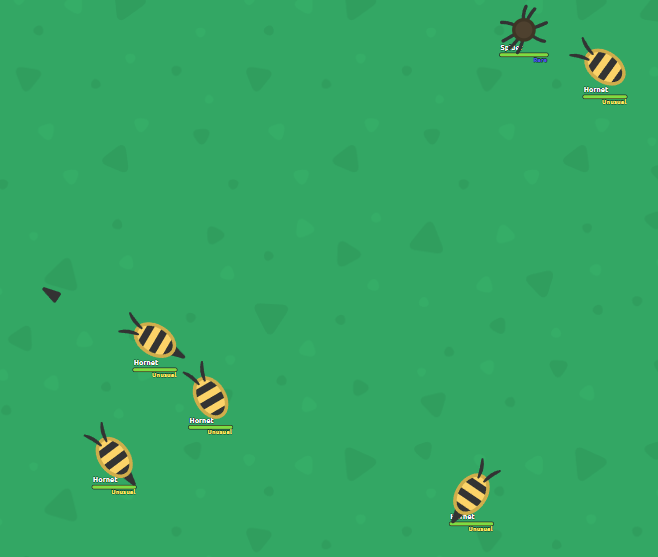Hornet: (94, 435, 137, 489), (450, 472, 491, 525), (132, 321, 186, 360), (583, 47, 627, 87), (192, 375, 230, 421)
Spider: (499, 4, 550, 54)
